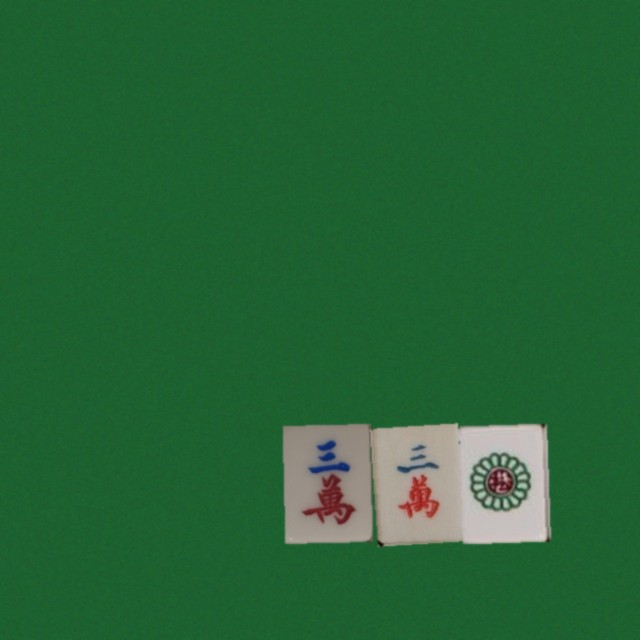tile: (282, 423, 370, 541), (370, 423, 458, 541), (458, 423, 546, 541)
